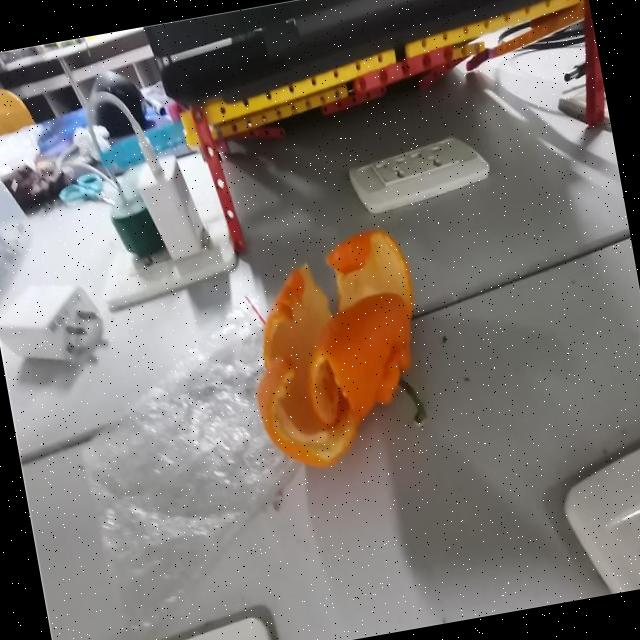orange-peel: (228, 222, 441, 478)
